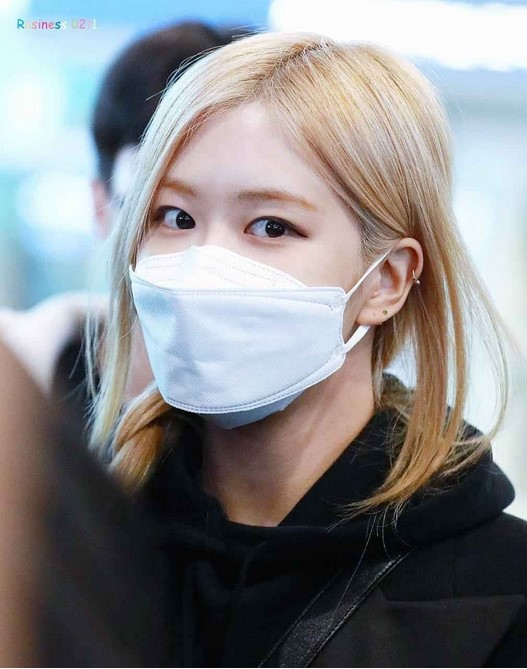face_with_mask: (120, 74, 430, 445)
